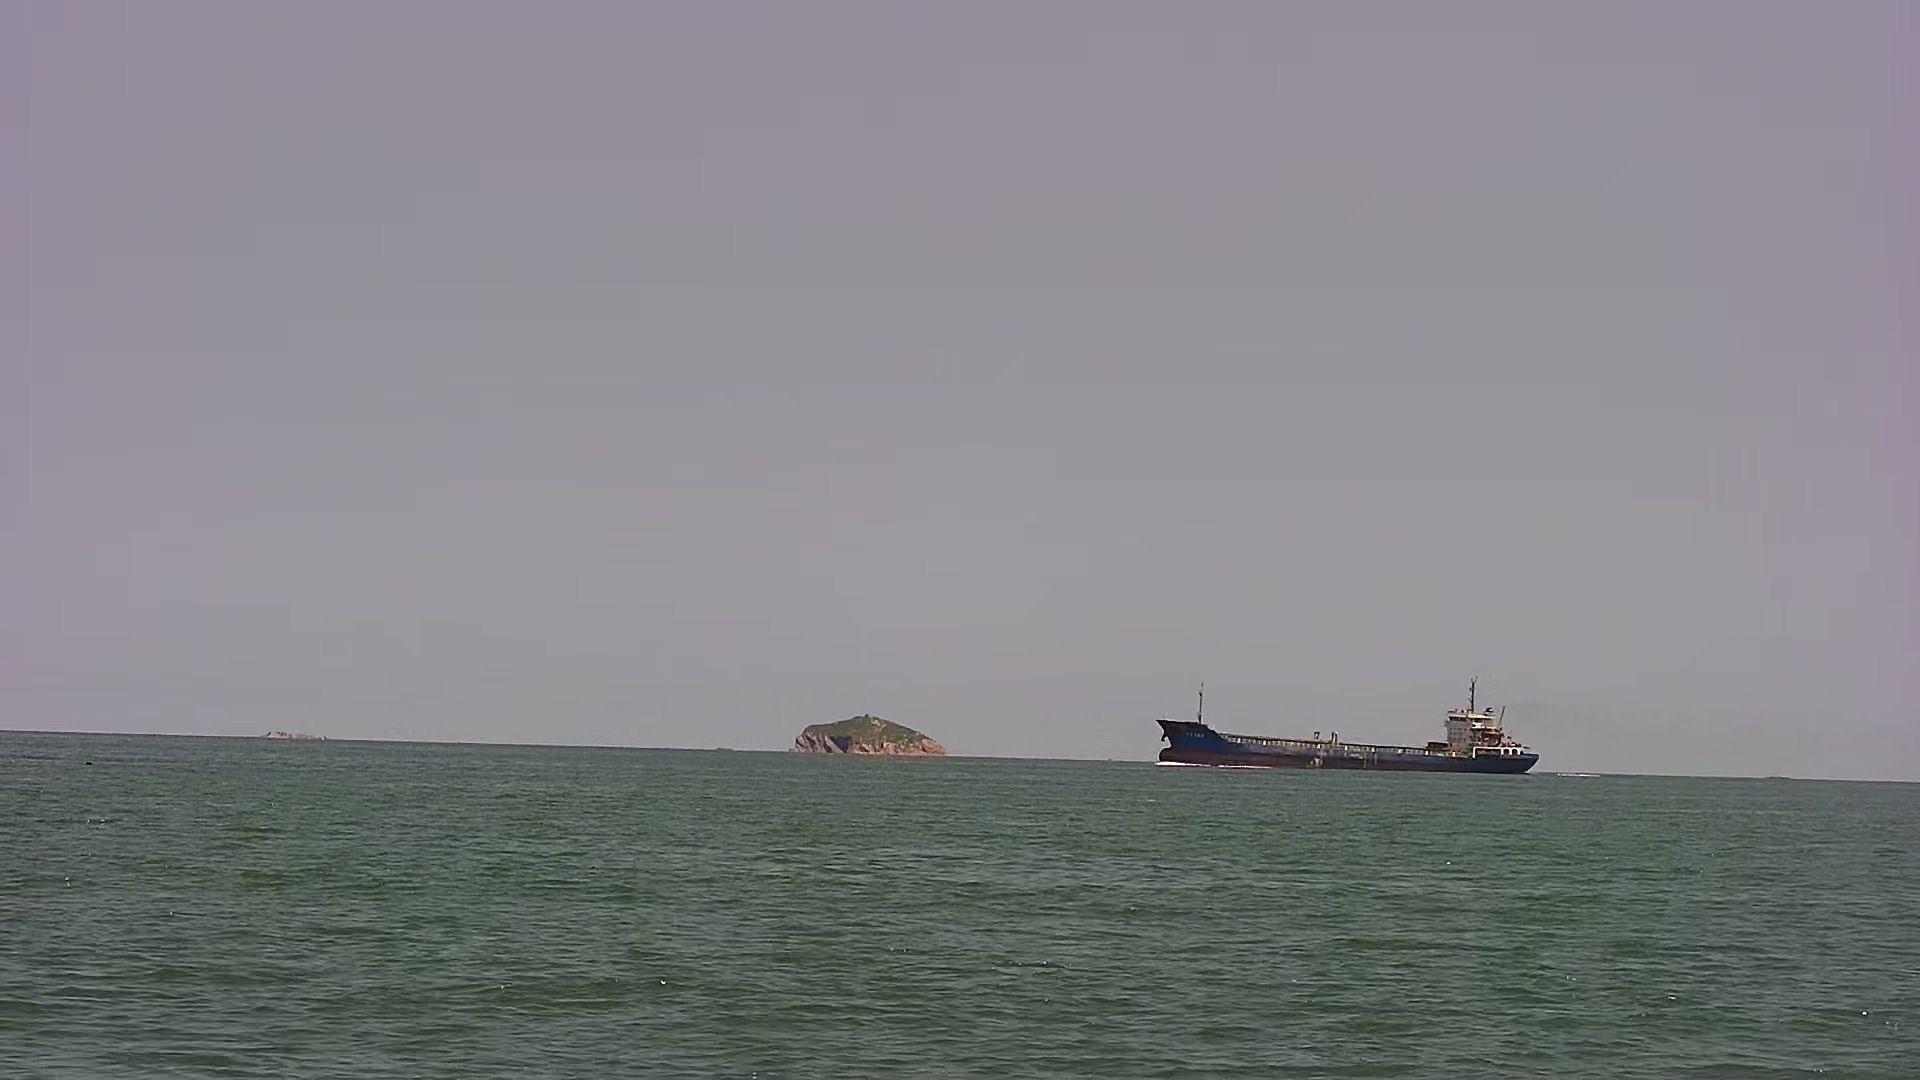rock: (791, 711, 969, 767)
ship: (1149, 680, 1552, 777)
